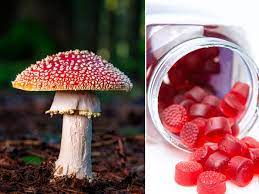Amanita muscaria: (10, 42, 131, 179)
